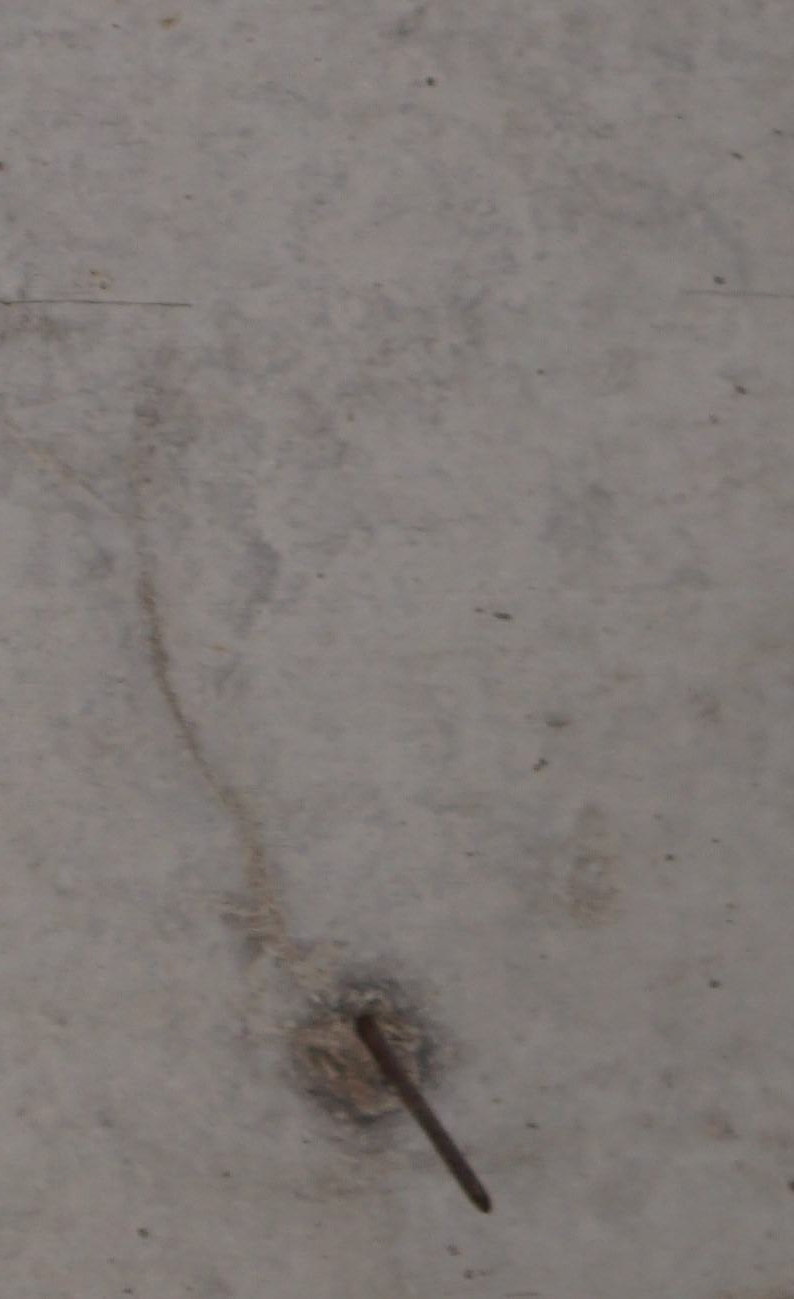Exposed reinforcement: (354, 1014, 494, 1216)
Spalling: (290, 978, 439, 1125)
